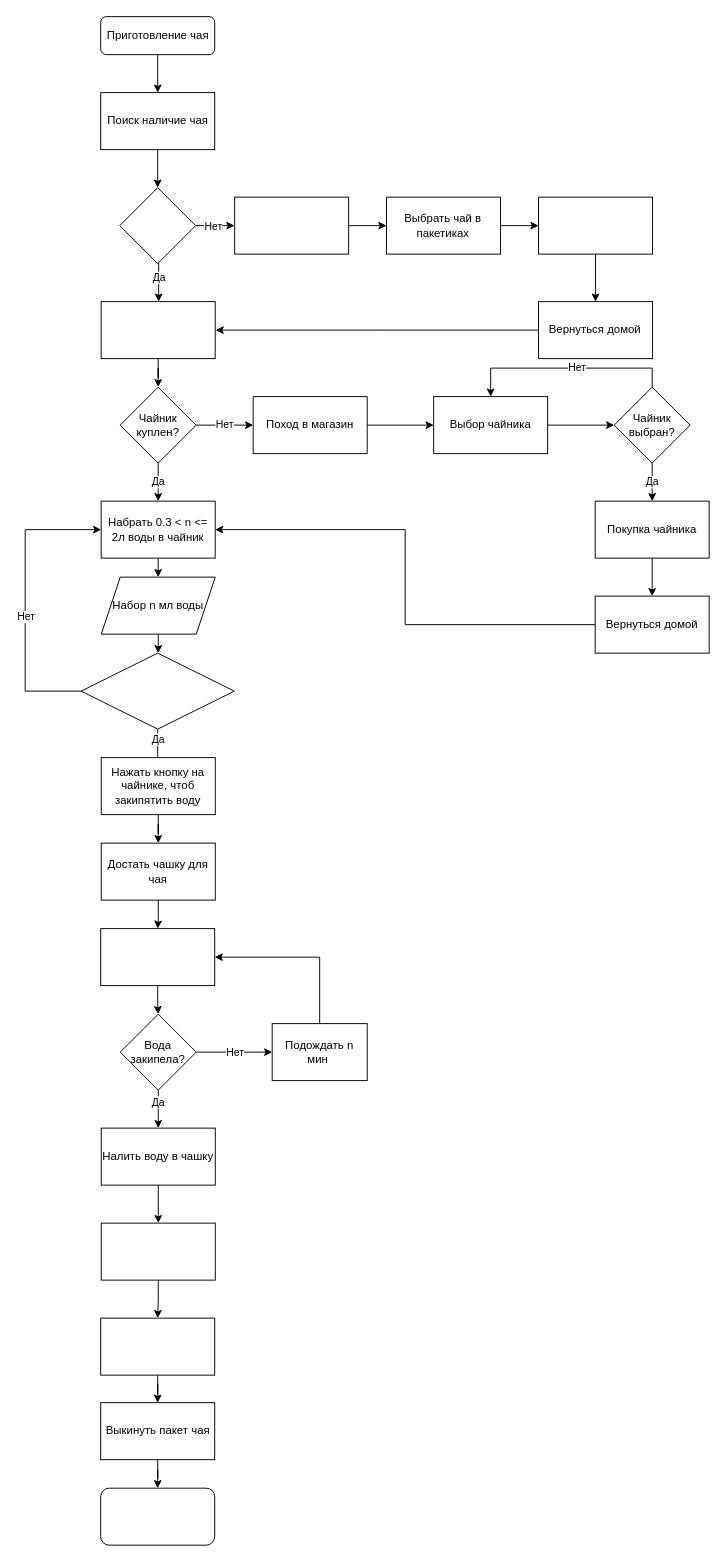
Image size: 726x1562. Some labels were removed from this diagram. The centre of each missing label's shape, as x and y in pixels:
"В чайнике достаточно воды?" belongs at pixel 157 690.
"Купить чай" belongs at pixel 595 225.
"Подождать пару минут, чтоб чай заварился" belongs at pixel 157 1346.
"Поиск наличия чайника" belongs at pixel 157 330.
"Пойти в магазин" belongs at pixel 291 225.
"Положить в воду пакетик чая" belongs at pixel 157 1251.
"Посмотреть закипела ли вода в чайнике" belongs at pixel 157 957.
"Чай есть в наличии?" belongs at pixel 157 225.
"Чай приготовлен" belongs at pixel 157 1516.
